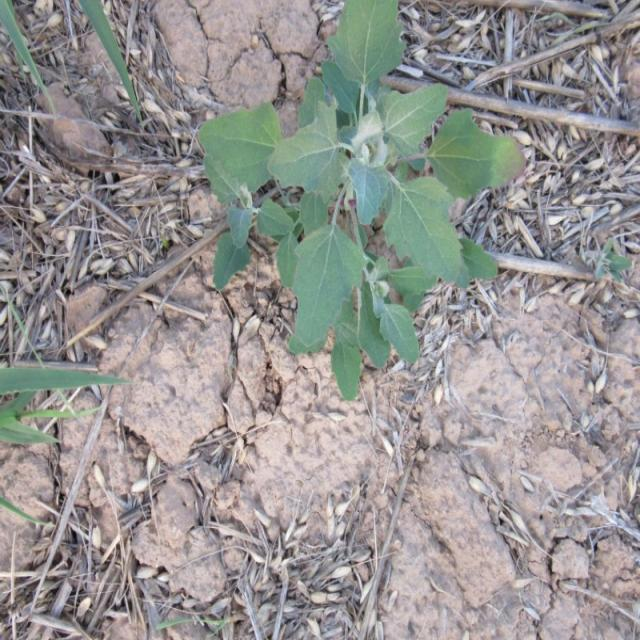ca: (199, 0, 527, 405)
